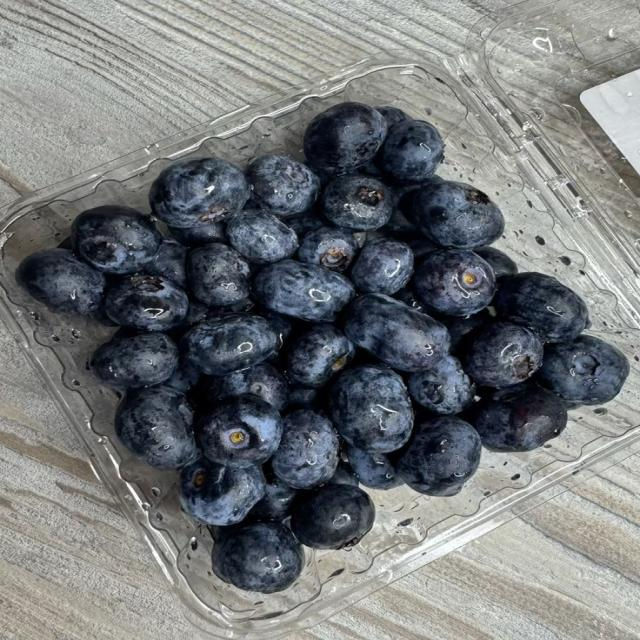blueberry: (345, 294, 449, 371), (330, 366, 413, 452), (150, 158, 249, 227), (115, 387, 198, 469), (494, 272, 588, 342), (398, 416, 481, 495), (537, 335, 629, 404), (411, 181, 504, 249), (213, 524, 304, 593), (197, 395, 282, 467), (72, 206, 161, 274), (254, 261, 354, 321), (474, 386, 566, 451), (180, 314, 277, 375), (304, 103, 387, 173), (16, 250, 105, 315), (180, 458, 266, 525), (414, 250, 496, 316), (291, 484, 374, 548), (272, 410, 338, 489), (466, 323, 542, 388), (91, 333, 178, 388), (105, 275, 188, 331), (247, 154, 319, 214), (286, 324, 354, 387), (377, 120, 444, 182), (321, 174, 393, 230), (205, 363, 288, 411), (187, 243, 250, 306), (407, 356, 475, 414), (227, 209, 298, 264), (351, 238, 413, 294), (299, 227, 358, 271), (442, 309, 494, 356), (347, 446, 403, 489), (248, 478, 299, 522), (144, 240, 186, 289), (255, 309, 292, 349), (167, 222, 226, 247), (399, 231, 440, 265), (475, 247, 518, 279), (380, 204, 421, 237), (164, 355, 199, 393), (181, 300, 226, 328), (287, 213, 326, 238), (393, 288, 426, 312), (329, 460, 359, 486), (376, 106, 412, 127), (288, 387, 318, 409), (89, 304, 118, 326), (56, 237, 73, 249)
